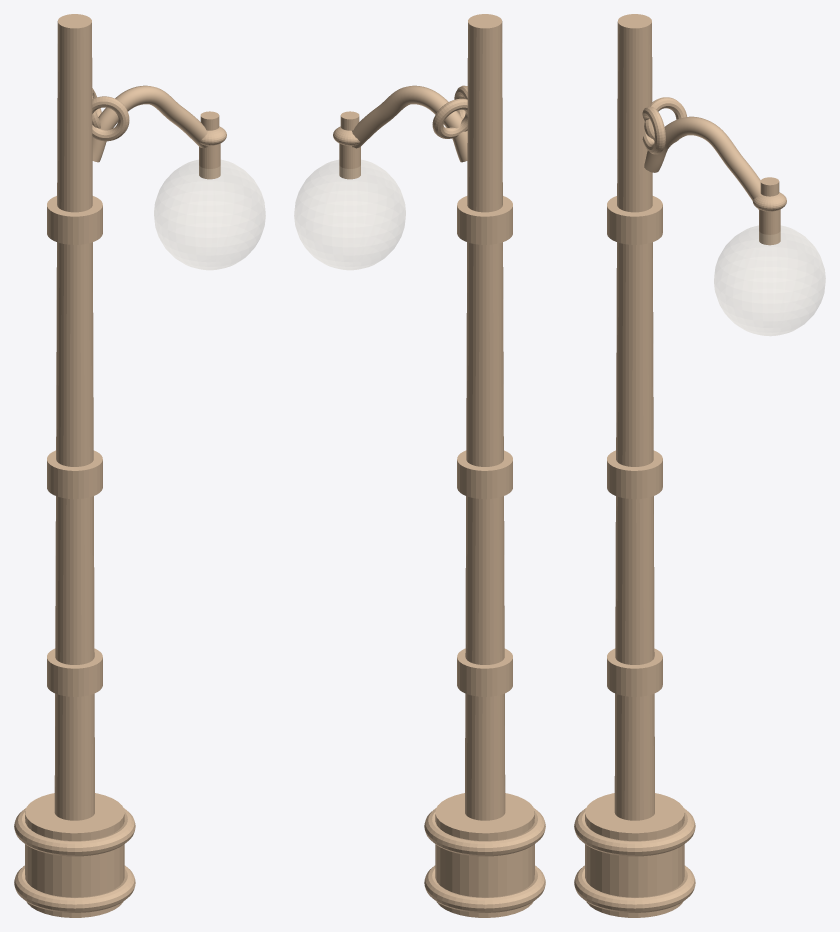
3 renders of one model, left to right at view 1: azimuth 30°, elevation 25°; view 2: azimuth 150°, elevation 25°; view 3: azimuth 330°, elevation 25°, orthographic.
Parts seen in each view (by area): view 1: MainPole, AmberGlassGlobe, Base, DecorativeArm, Torus.001, Torus, Cylinder.002, Cylinder.001, Cylinder, Torus.003, Cylinder.003; view 2: MainPole, AmberGlassGlobe, Base, DecorativeArm, Torus.001, Torus, Cylinder.002, Cylinder.001, Cylinder, Torus.002, Cylinder.003; view 3: MainPole, AmberGlassGlobe, Base, DecorativeArm, Torus.001, Torus, Cylinder.002, Cylinder.001, Cylinder, Torus.003, Cylinder.003, Torus.002.
Part boxes in pixels (x1,y1,x2,y2): MainPole: (54, 14, 94, 820); AmberGlassGlobe: (154, 160, 265, 269); Base: (25, 793, 124, 917); DecorativeArm: (92, 85, 207, 162); Torus.001: (14, 808, 135, 856); Torus: (14, 865, 135, 912); Cylinder.002: (47, 196, 102, 244); Cylinder.001: (47, 450, 102, 499); Cylinder: (47, 648, 102, 696); Torus.003: (92, 96, 129, 141); Cylinder.003: (199, 143, 220, 179); MainPole: (465, 14, 505, 820); AmberGlassGlobe: (294, 160, 405, 269); Base: (435, 793, 534, 917); DecorativeArm: (352, 85, 467, 162); Torus.001: (424, 808, 545, 856); Torus: (424, 865, 545, 912); Cylinder.002: (457, 196, 512, 244); Cylinder.001: (457, 450, 512, 499); Cylinder: (457, 648, 512, 696); Torus.002: (432, 98, 467, 138); Cylinder.003: (339, 143, 360, 179); MainPole: (614, 14, 654, 820); AmberGlassGlobe: (714, 225, 825, 335); Base: (585, 793, 684, 917); DecorativeArm: (644, 116, 761, 209); Torus.001: (574, 808, 695, 856); Torus: (574, 865, 695, 912); Cylinder.002: (607, 196, 662, 244); Cylinder.001: (607, 450, 662, 499); Cylinder: (607, 648, 662, 696); Torus.003: (642, 106, 665, 154); Cylinder.003: (759, 209, 780, 245); Torus.002: (644, 97, 686, 142).
Bounding box in the file's own units: 0.875 × 3.1 × 0.39.
